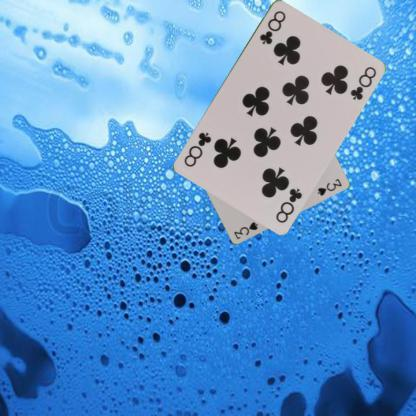3s: (231, 219, 259, 241)
8c: (257, 7, 287, 46), (273, 185, 303, 224)
